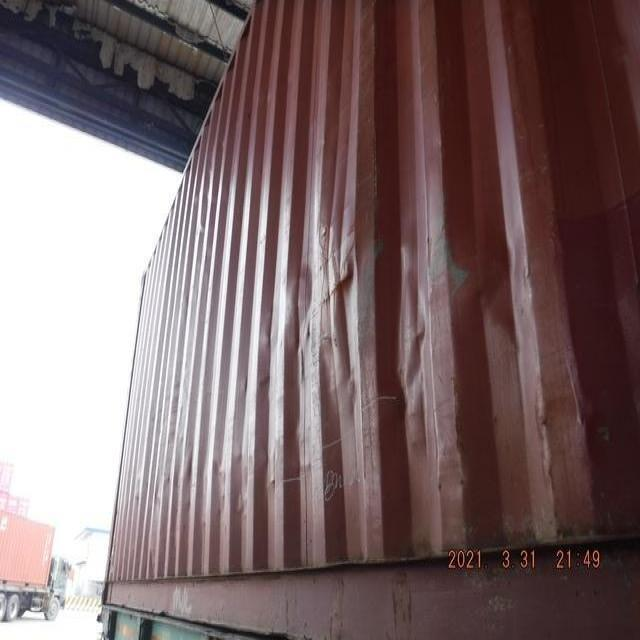Dent: (279, 184, 380, 413)
Minor-Dent: (366, 236, 454, 455)
